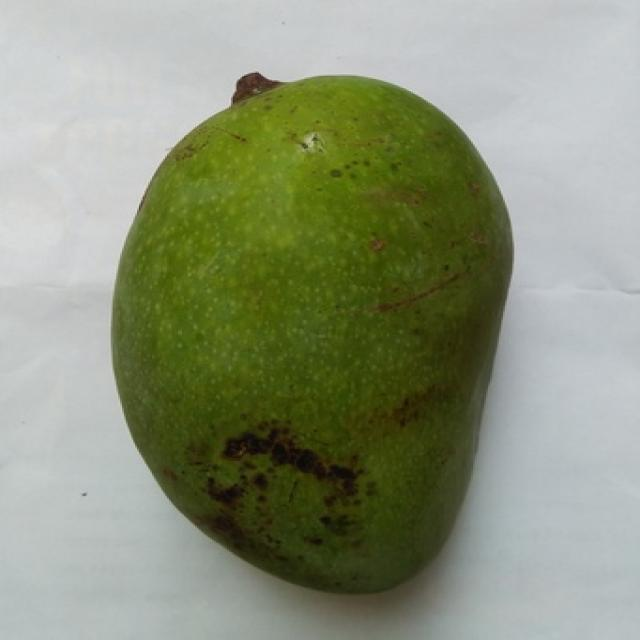Mango: (113, 77, 510, 591)
